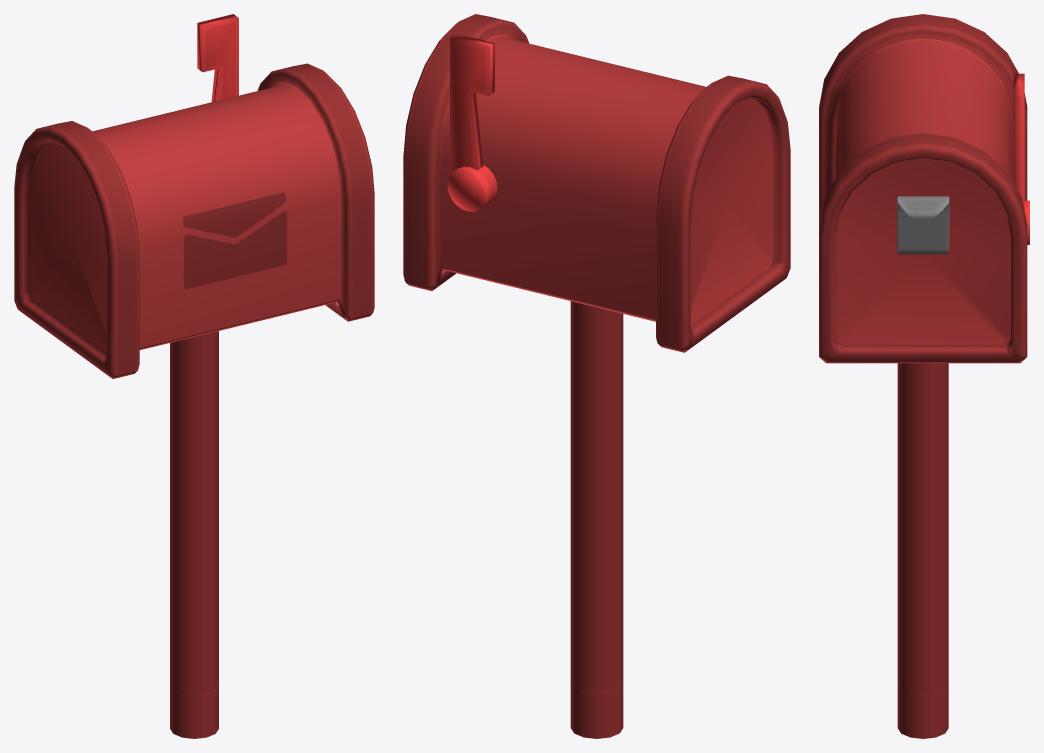
File: postbox.glb
The picture shows the model from 3 angles, left to right: view 1: azimuth 30°, elevation 25°; view 2: azimuth 150°, elevation 25°; view 3: azimuth 270°, elevation 25°; orthographic projection. The views are drawn at different scales.
Visible parts, largest first — view 1: P1_low, P2_low, P4_low; view 2: P1_low, P2_low, P4_low; view 3: P1_low, P2_low, P3_low, P4_low.
Part boxes in pixels (bbox=[...]): P1_low: bbox=[14, 63, 374, 378]; P2_low: bbox=[170, 331, 218, 738]; P4_low: bbox=[197, 14, 238, 101]; P1_low: bbox=[403, 14, 790, 352]; P2_low: bbox=[570, 301, 623, 738]; P4_low: bbox=[447, 33, 497, 211]; P1_low: bbox=[819, 14, 1027, 363]; P2_low: bbox=[897, 363, 948, 738]; P3_low: bbox=[897, 196, 949, 254]; P4_low: bbox=[1013, 73, 1029, 244].
Size of what is drawn, in the model's own units: 29 by 64.26 by 18.05.
Materials: 1 (1 with a texture image).
